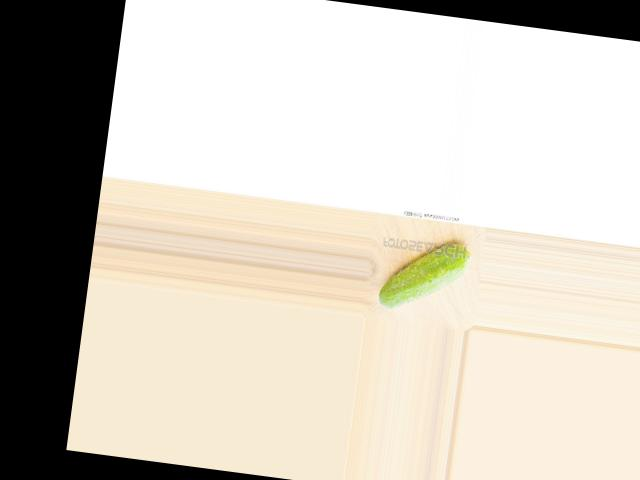cucumber: (377, 234, 473, 318)
